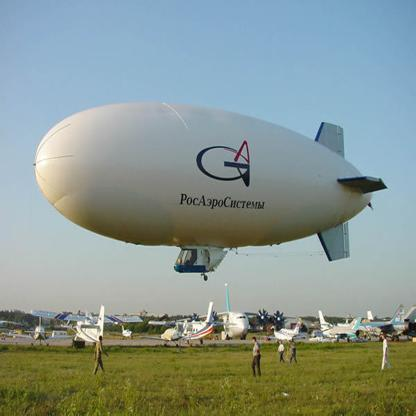Airship: (31, 101, 390, 279)
